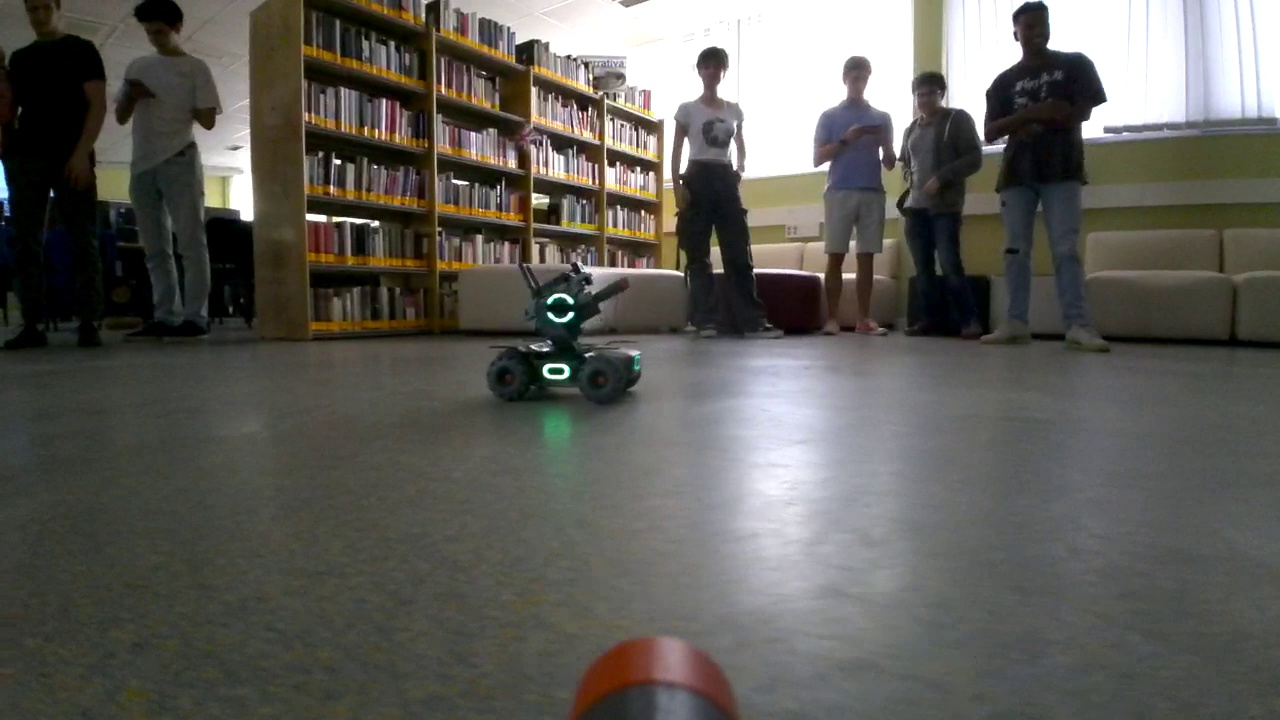robot: (483, 264, 645, 410)
